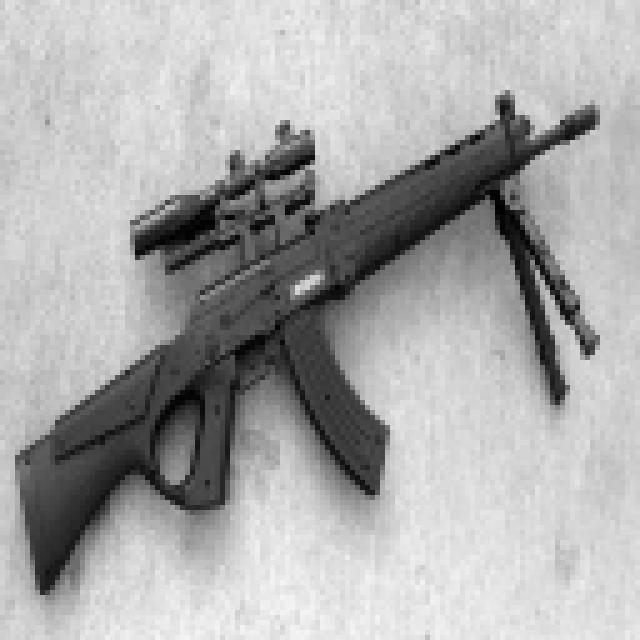Rifle: (10, 60, 640, 610)
